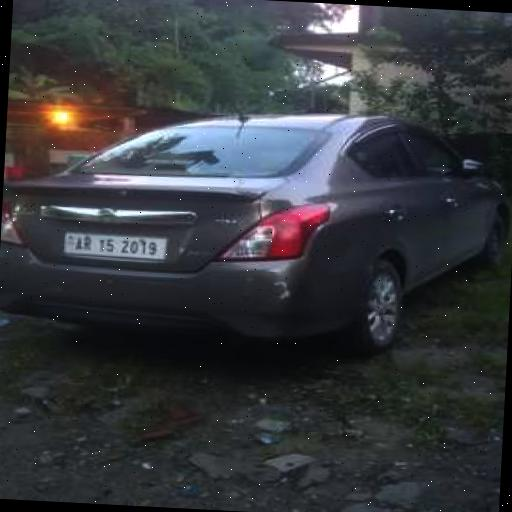license_plate`: (62, 230, 165, 259)
